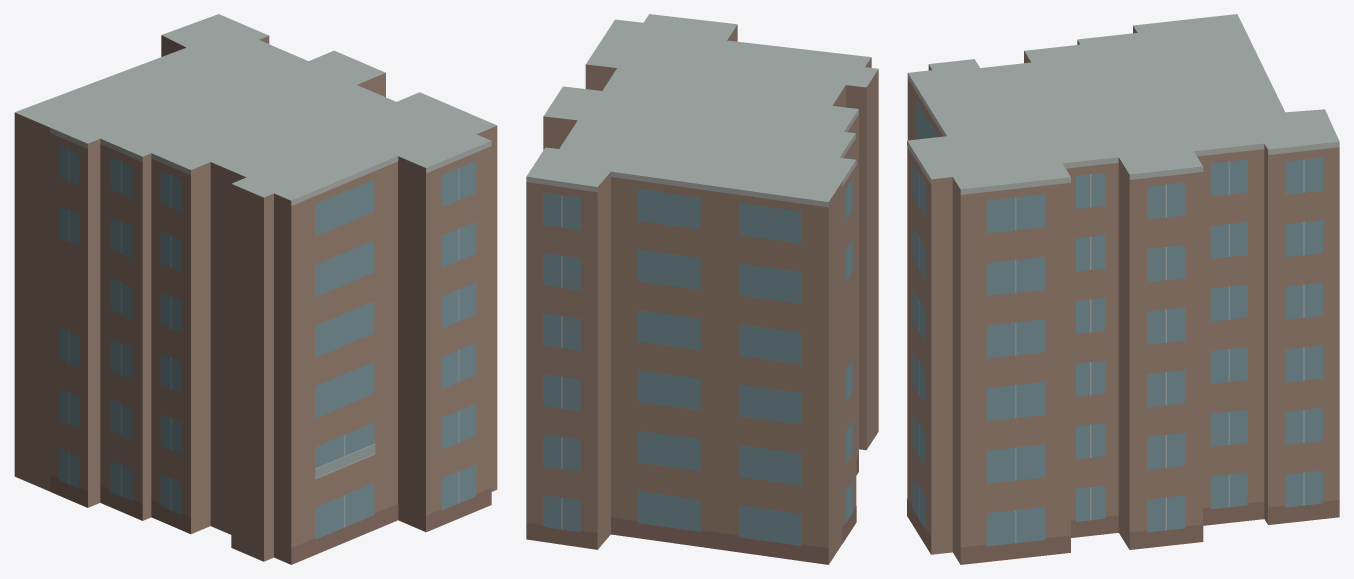
Rendered from survey-upis-32992551.glb.
3 renders of one model, left to right at view 1: azimuth 30°, elevation 25°; view 2: azimuth 150°, elevation 25°; view 3: azimuth 270°, elevation 25°, orthographic. The views are drawn at different scales.
Parts seen in each view (by area): view 1: survey-upis-32992551.tmp; view 2: survey-upis-32992551.tmp; view 3: survey-upis-32992551.tmp.
Boxes of the visible parts, x1,y1,x2,y2 form: survey-upis-32992551.tmp: (14,14,497,564); survey-upis-32992551.tmp: (526,14,878,564); survey-upis-32992551.tmp: (907,14,1339,564).
Bounding box in the file's own units: 16.74 × 16.7 × 17.45.
